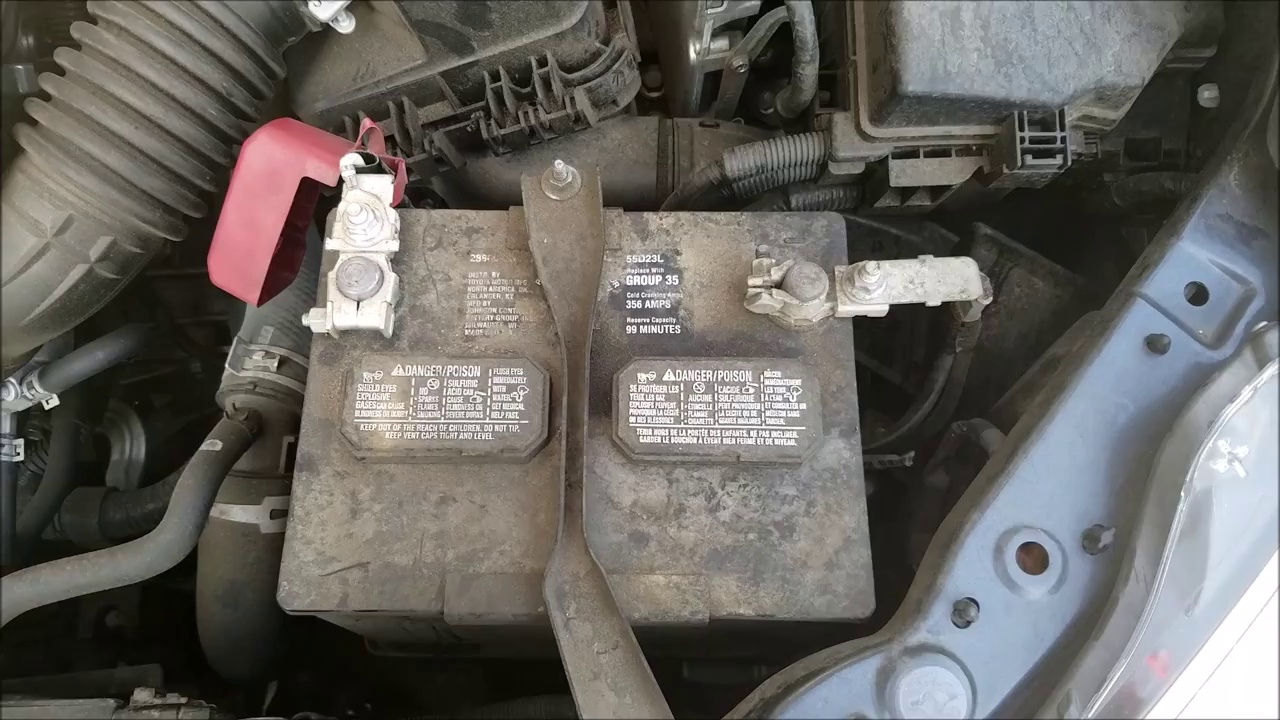battery: (318, 179, 872, 614)
neg_connected: (727, 221, 930, 346)
pos_connected: (265, 135, 438, 355)
